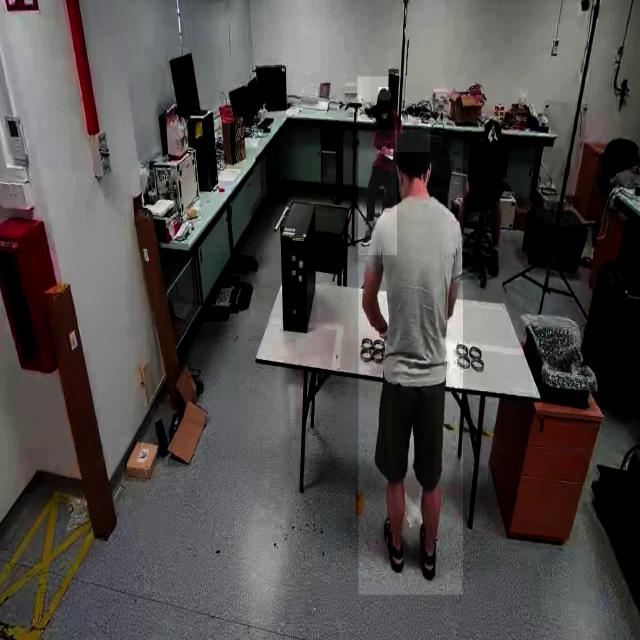hand_noglove: (382, 143, 390, 156), (376, 147, 384, 158)
head_nohelmet: (394, 123, 430, 153), (378, 87, 390, 101)
person: (358, 130, 463, 596), (357, 77, 397, 255)
